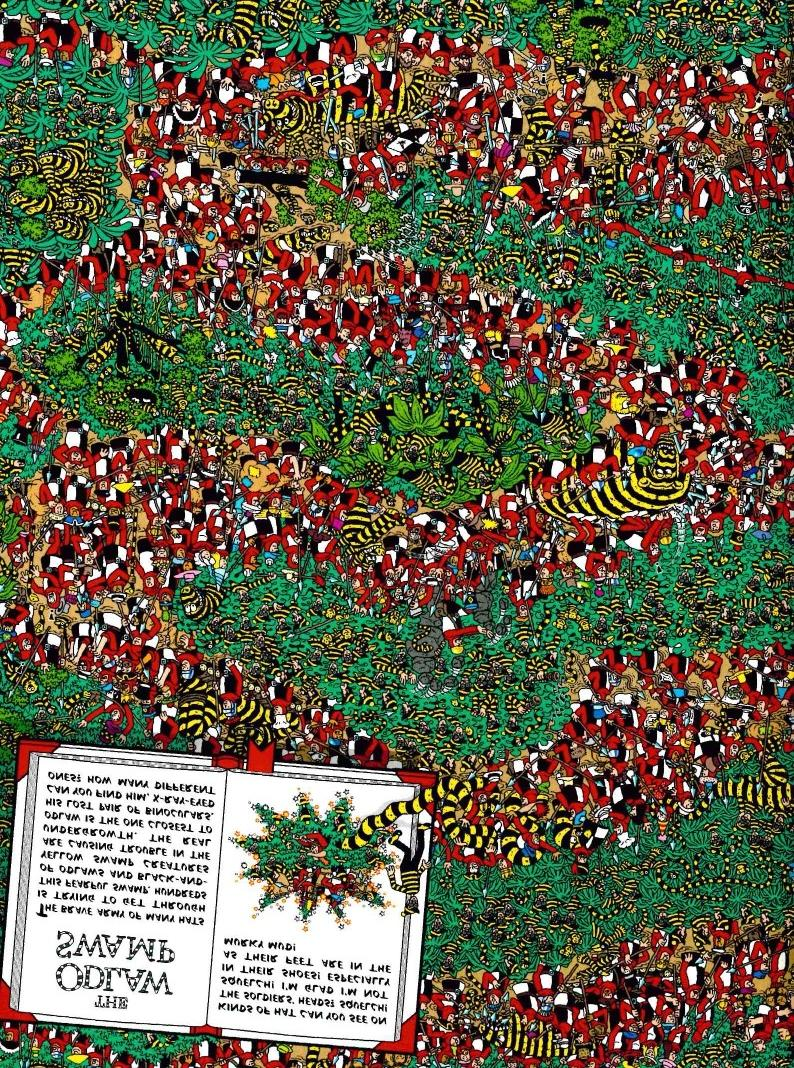waldos: (387, 585, 407, 613)
